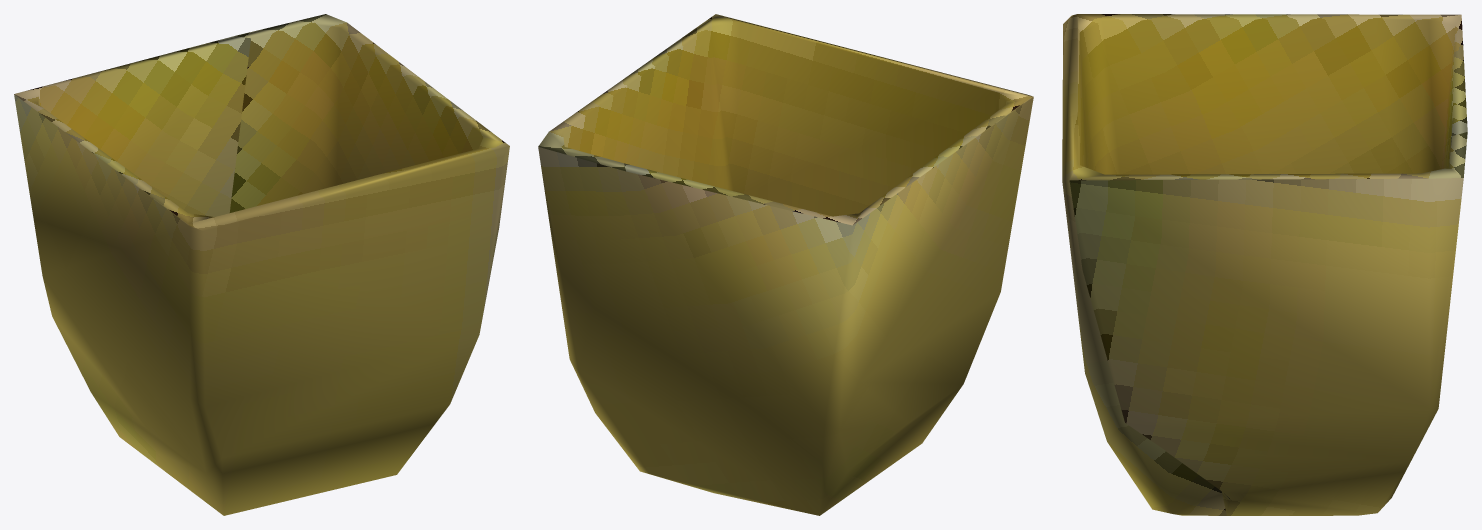
File: Ecoforms_Plant_Container_QP_Harvest-low.glb
3 renders of one model, left to right at view 1: azimuth 30°, elevation 25°; view 2: azimuth 150°, elevation 25°; view 3: azimuth 270°, elevation 25°, orthographic. The views are drawn at different scales.
Parts seen in each view (by area): view 1: Ecoforms_Plant_Container_QP_Harvest; view 2: Ecoforms_Plant_Container_QP_Harvest; view 3: Ecoforms_Plant_Container_QP_Harvest.
Part boxes in pixels (x1,y1,x2,y2): Ecoforms_Plant_Container_QP_Harvest: (14, 14, 509, 515); Ecoforms_Plant_Container_QP_Harvest: (538, 14, 1033, 515); Ecoforms_Plant_Container_QP_Harvest: (1062, 14, 1467, 515).
Bounding box in the file's own units: 0.086 × 0.0896 × 0.0864.
1 material, 1 textured.
